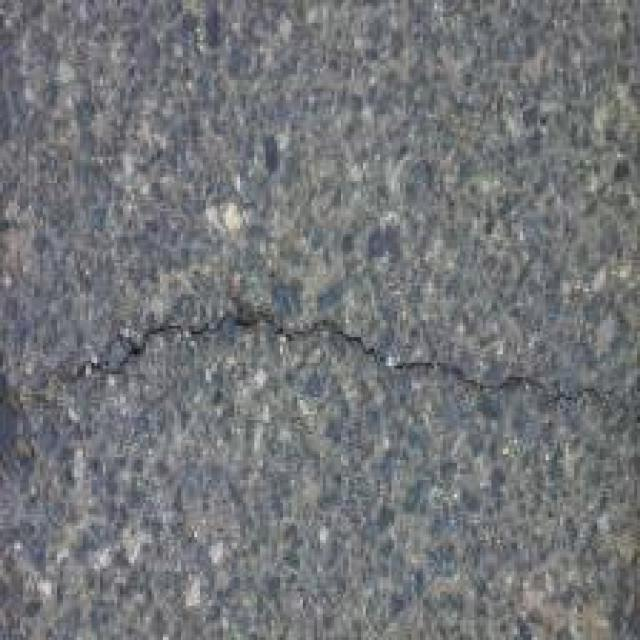SurfaceCrack: (24, 280, 640, 462)
